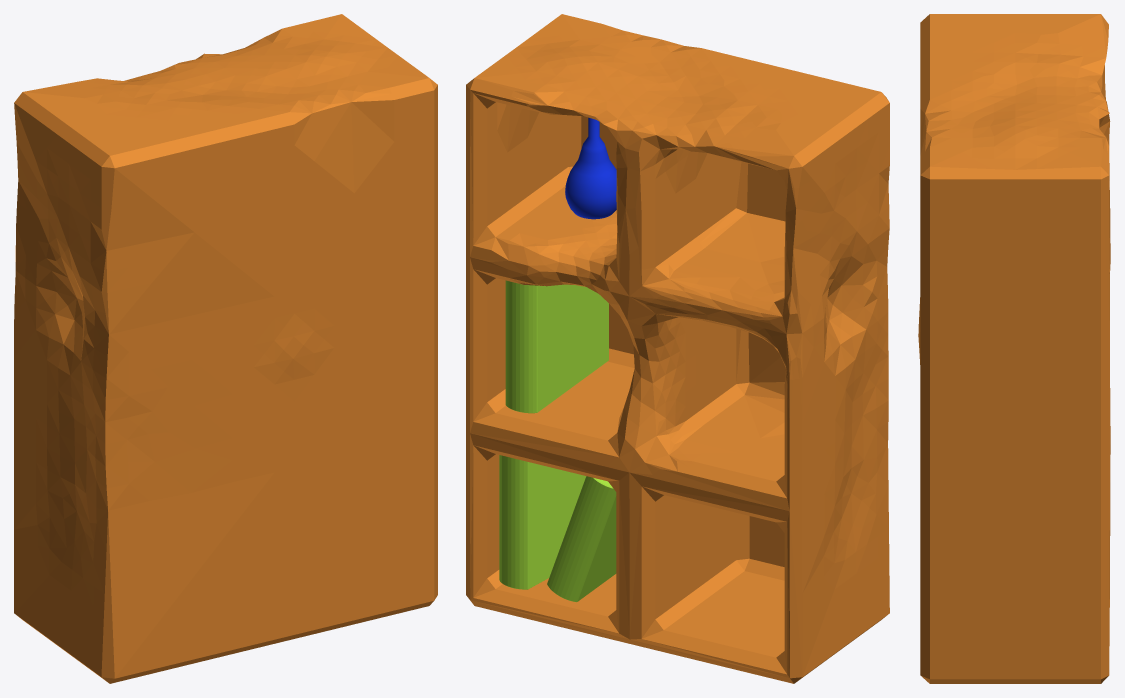
Rendered from bookstair.fbx.
The picture shows the model from 3 angles, left to right: view 1: azimuth 30°, elevation 25°; view 2: azimuth 150°, elevation 25°; view 3: azimuth 270°, elevation 25°; orthographic projection. The views are drawn at different scales.
Visible parts, largest first — view 1: Cube.006; view 2: Cube.006; view 3: Cube.006.
Part boxes in pixels (x1=…): Cube.006: x1=14, y1=14, x2=437, y2=683; Cube.006: x1=466, y1=14, x2=889, y2=683; Cube.006: x1=918, y1=14, x2=1110, y2=683.
Bounding box in the file's own units: 400 × 604 × 202.
